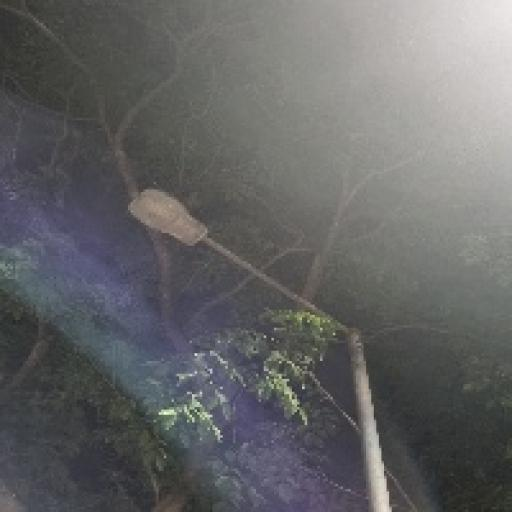Not Working: (115, 178, 224, 258)
